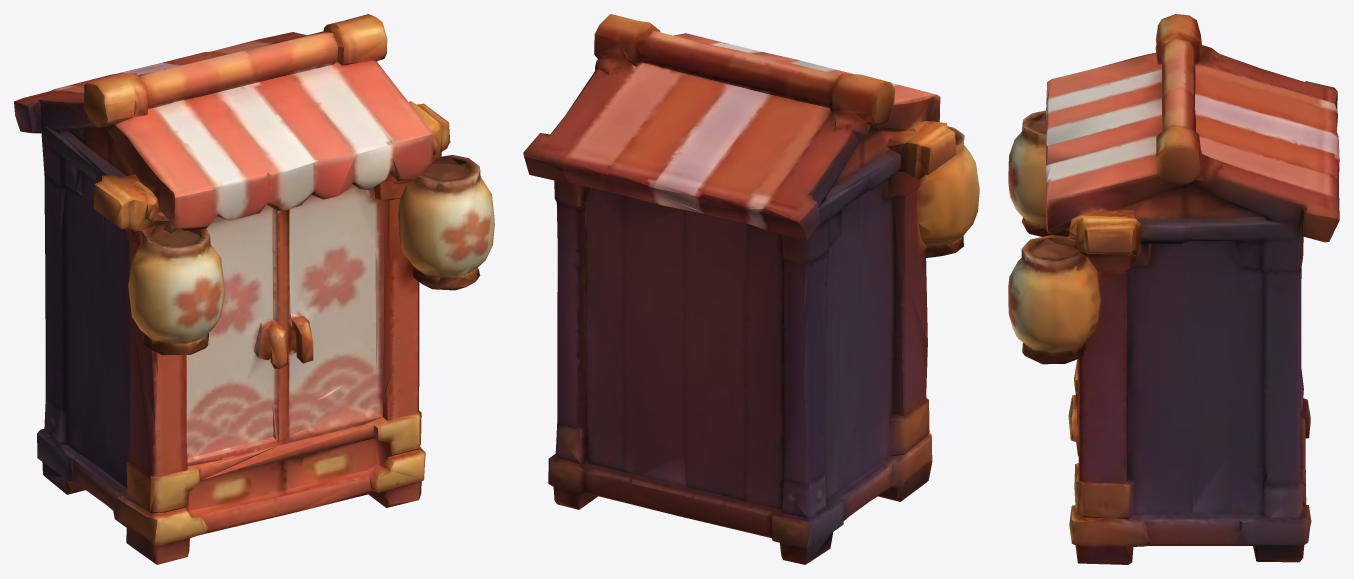
File: cabinet15.glb
3 views of the same model, side by side, from view 1: azimuth 30°, elevation 25°; view 2: azimuth 150°, elevation 25°; view 3: azimuth 270°, elevation 25° (orthographic). The views are drawn at different scales.
Bounding box in the file's own units: 0.2357 × 0.2826 × 0.1996.
1 material, 1 textured.
